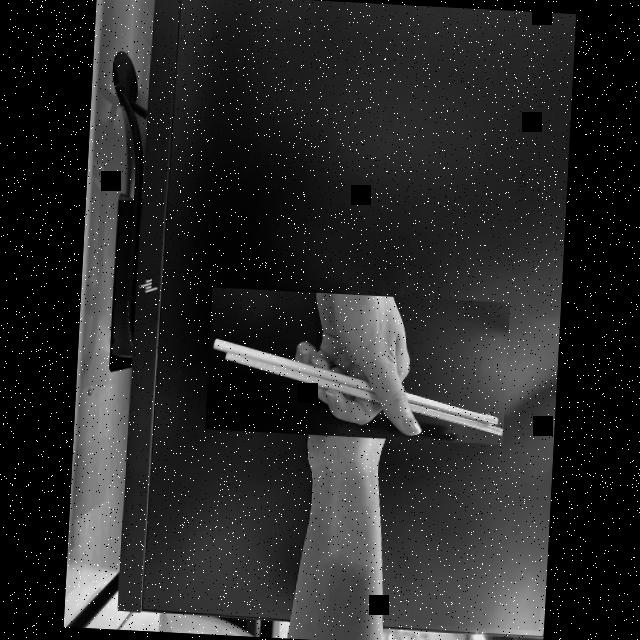stick: (206, 286, 510, 444)
